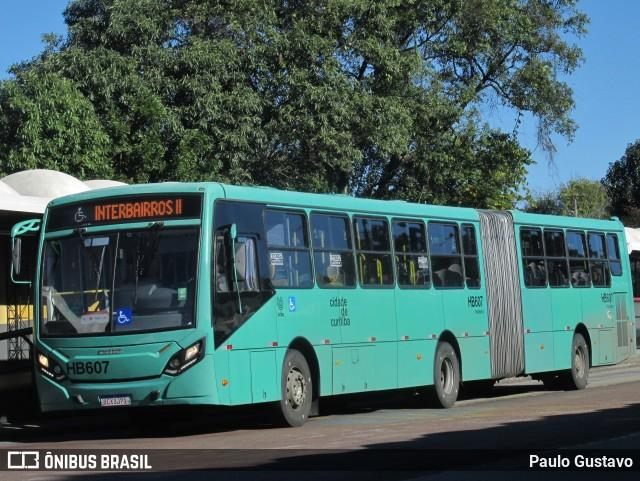INTERBAIRROS II: (89, 195, 187, 225)
